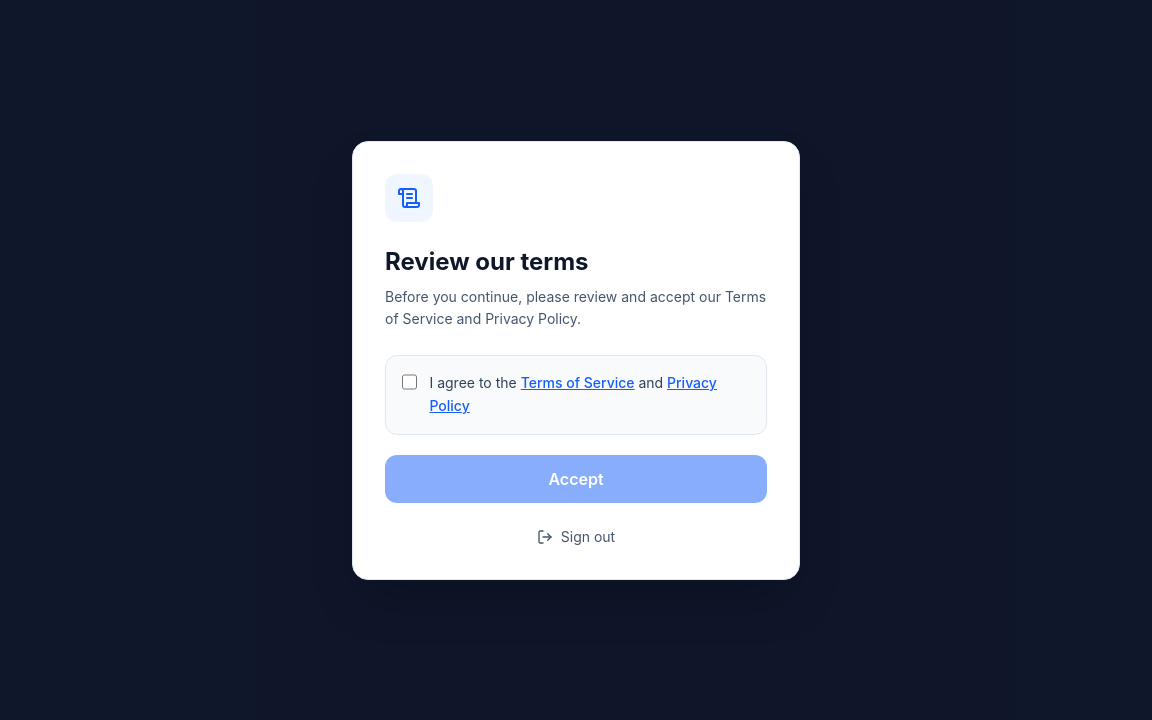
Legal acceptance gate › keeps the dialog open and shows the server message when the versions are stale
Step 1. Click the checkbox → (410, 382), box left=402, top=374, right=418, bottom=390
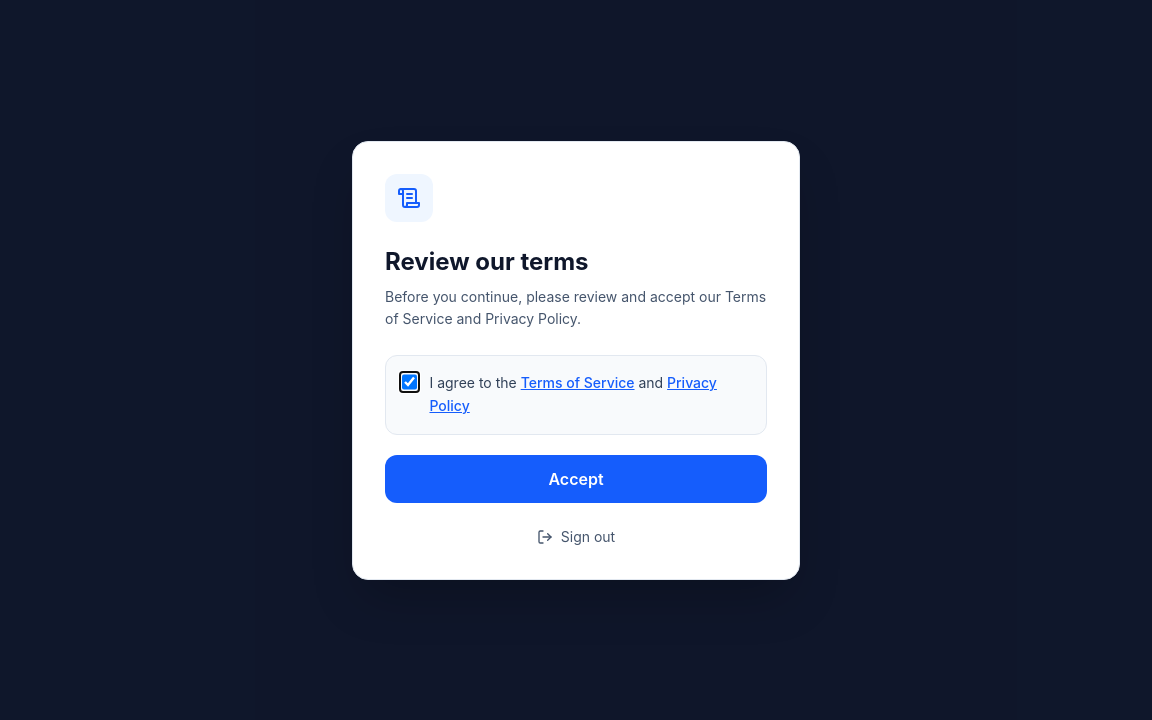
Step 2. Click the button "Accept" → (576, 478), box left=385, top=454, right=767, bottom=502
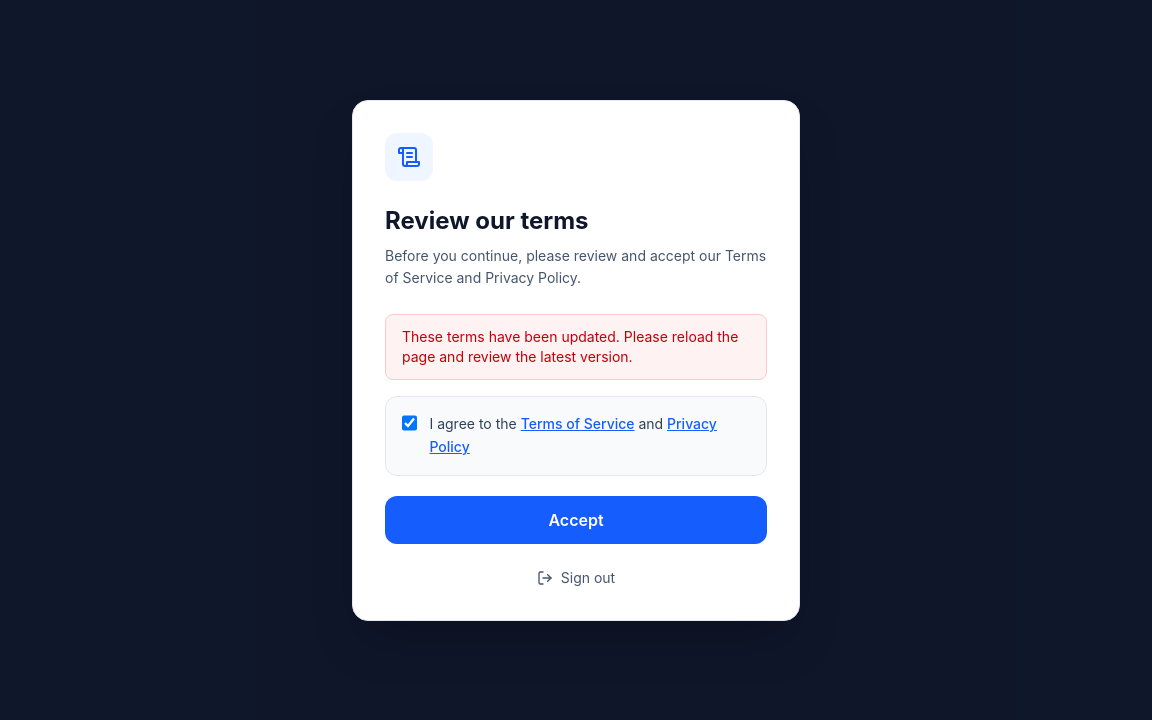
Expected: the dialog is shown, left=352, top=100, right=800, bottom=620
Result: the message shows "These terms have been updated" at left=402, top=328, right=738, bottom=365
